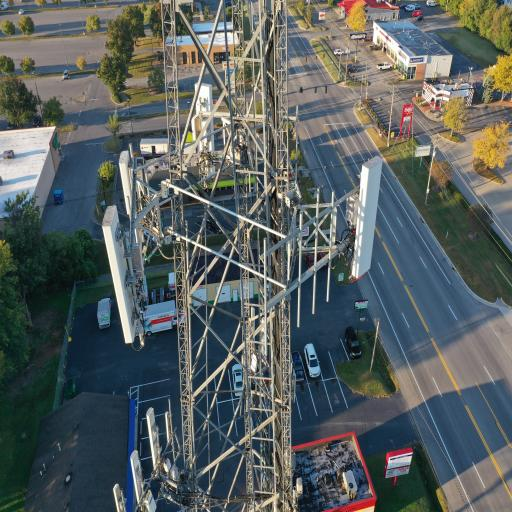supporting_tower: (105, 0, 399, 512)
